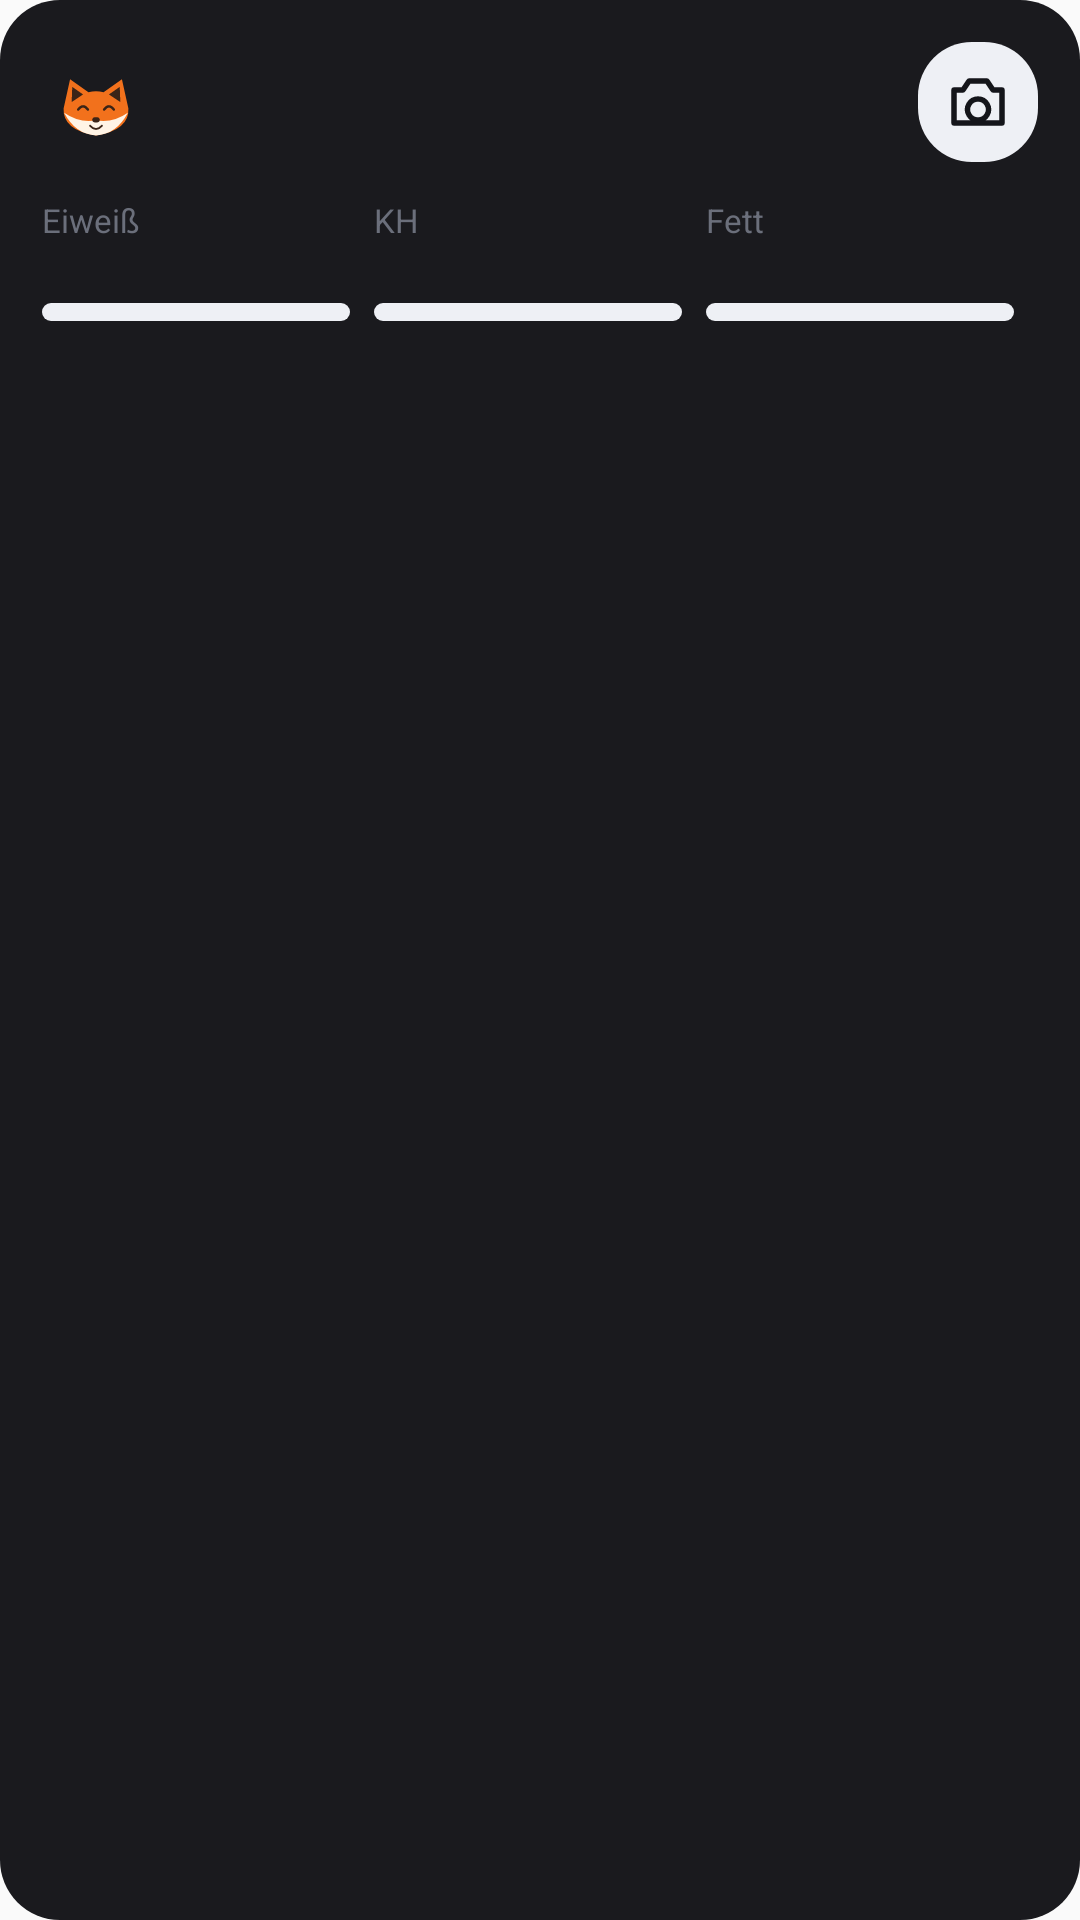

Icon click points for this 1080 x 1920 phone screenshot, format (x=x, y=y):
Mahlzeit fotografieren: (x=978, y=102)
widget fox: (x=96, y=107)
